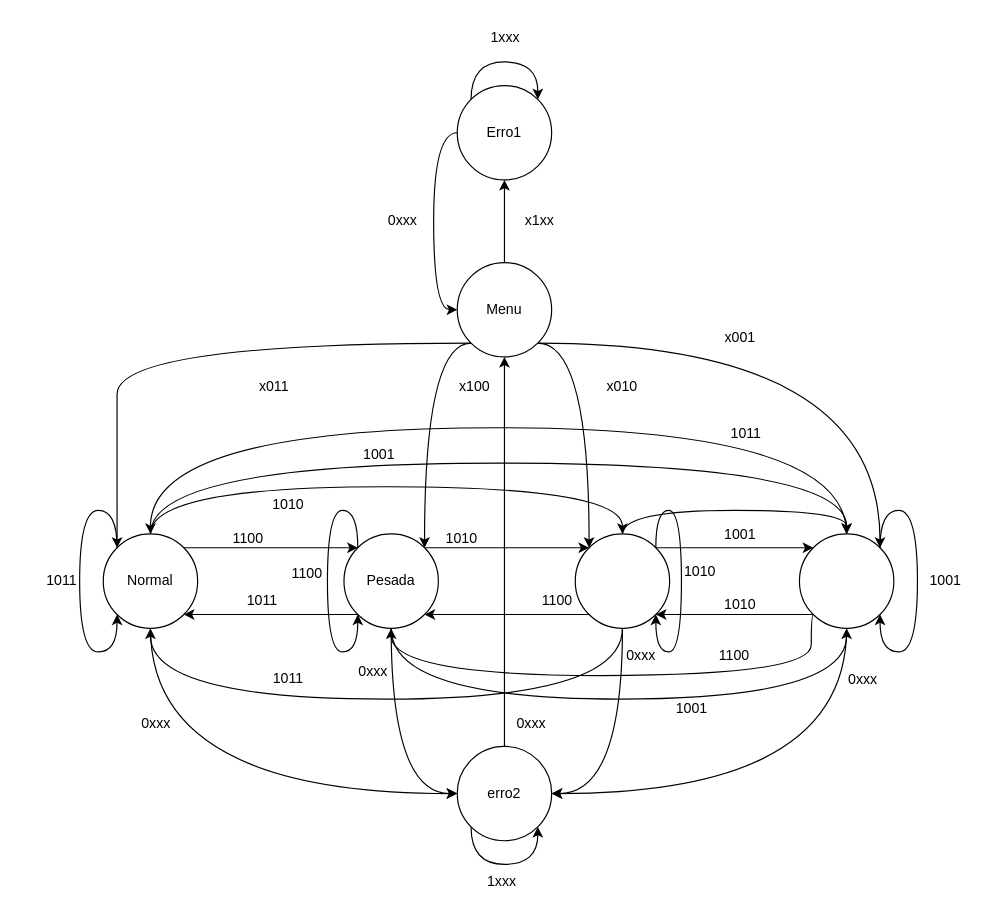
The diagram is 1007 pixels wide and 919 high, and some of its shapes have lost their labels. The shapes that lost their labels are listed below. From the top down, each one's box as (x1, y1, x2, y2) in pixels, then its label:
(574, 533, 670, 628): Economica
(798, 533, 894, 628): Secagem
